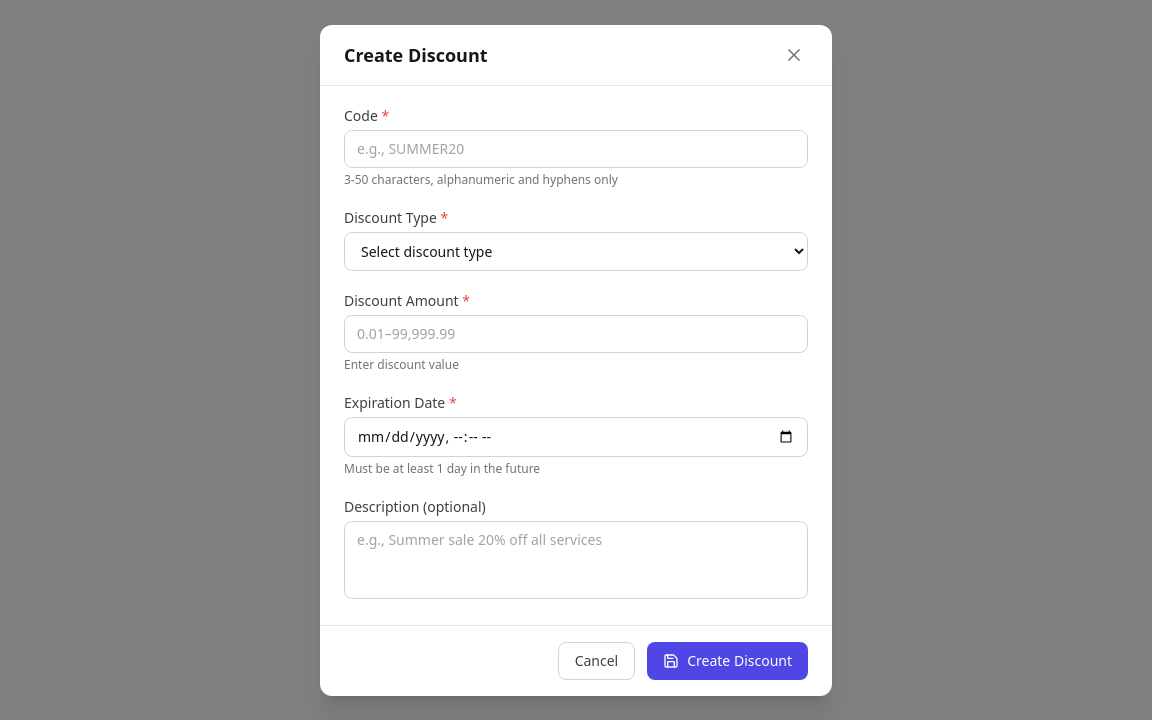
Test: CreateDiscountForm › Client-side Validation › should show error when code contains invalid characters
In the field labelled "Code *": (576, 148) [344, 130, 808, 168], type "SUMMER_20!"
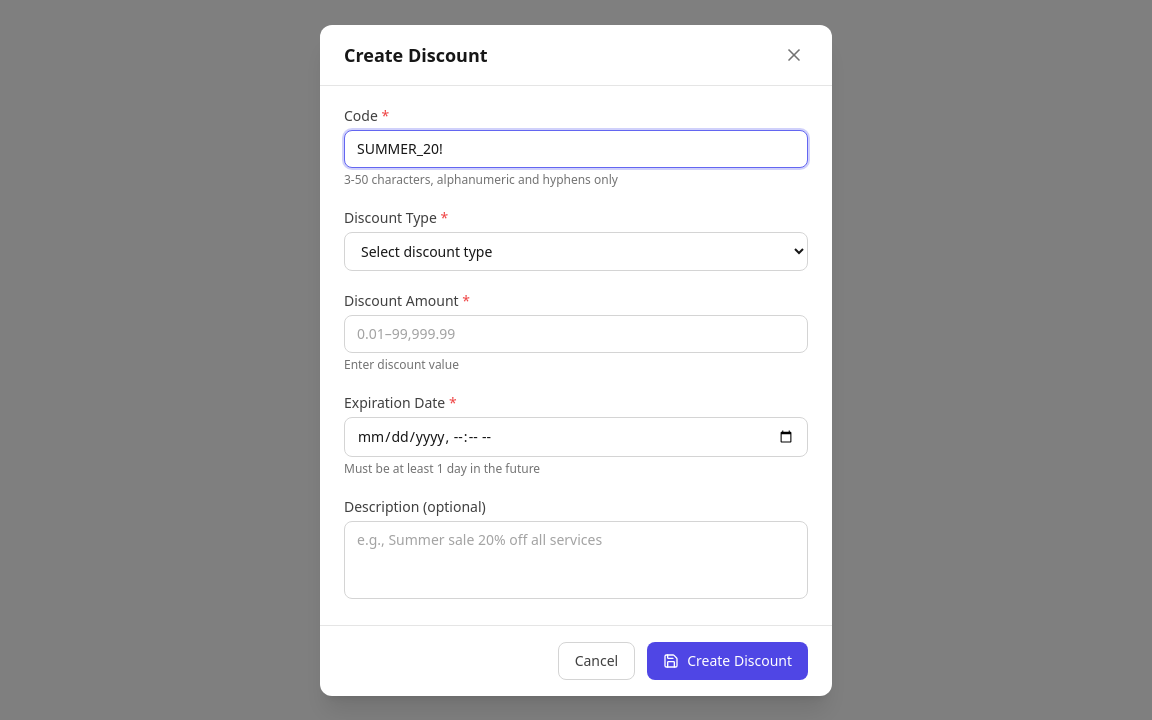
Press Tab
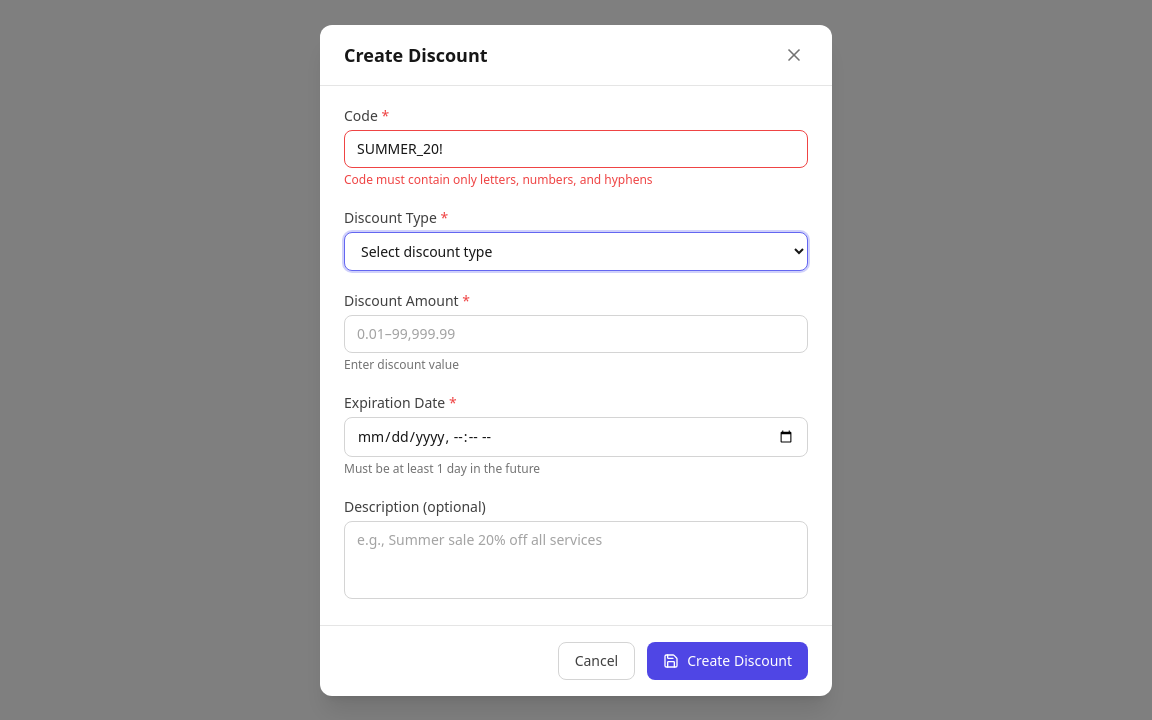
Expected: the text "Code must contain only letters, numbers, and hyphens" is shown, [344, 170, 653, 188]
